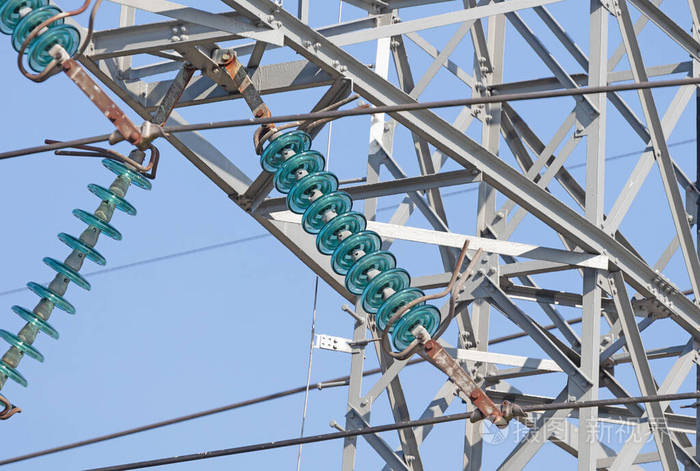insulator: (266, 130, 441, 352), (1, 158, 149, 391), (1, 1, 80, 70)
